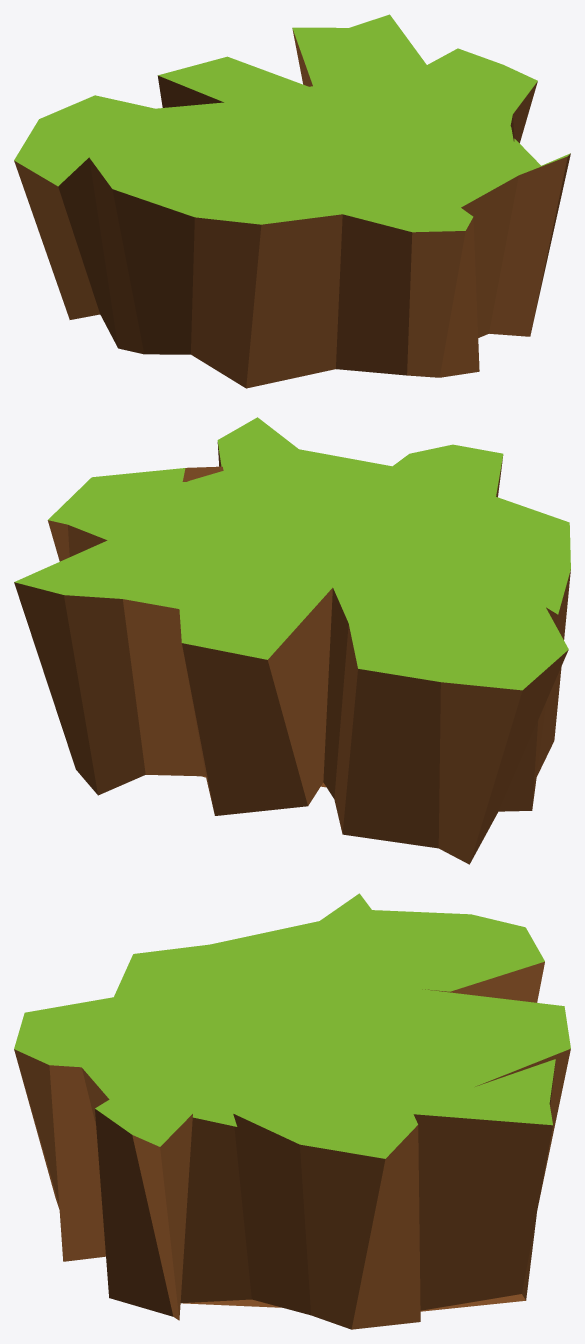
The model's file is Cliff_model_1.fbx.
3 views of the same model, one above another, from view 1: azimuth 30°, elevation 25°; view 2: azimuth 150°, elevation 25°; view 3: azimuth 270°, elevation 25° (orthographic). The views are drawn at different scales.
Visible parts, largest first — view 1: Plane; view 2: Plane; view 3: Plane.
Boxes of the visible parts, bbox=[...] form: Plane: bbox=[14, 14, 570, 388]; Plane: bbox=[14, 417, 570, 864]; Plane: bbox=[14, 893, 570, 1329].
Bounding box in the file's own units: 178 × 75.59 × 162.
